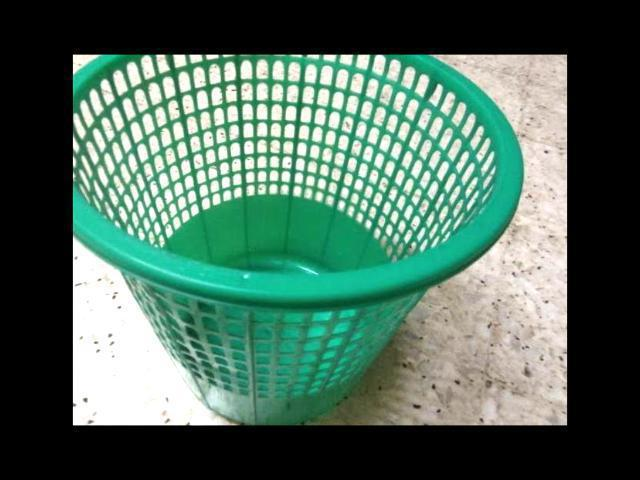Bote de Basura: (73, 55, 530, 425)
